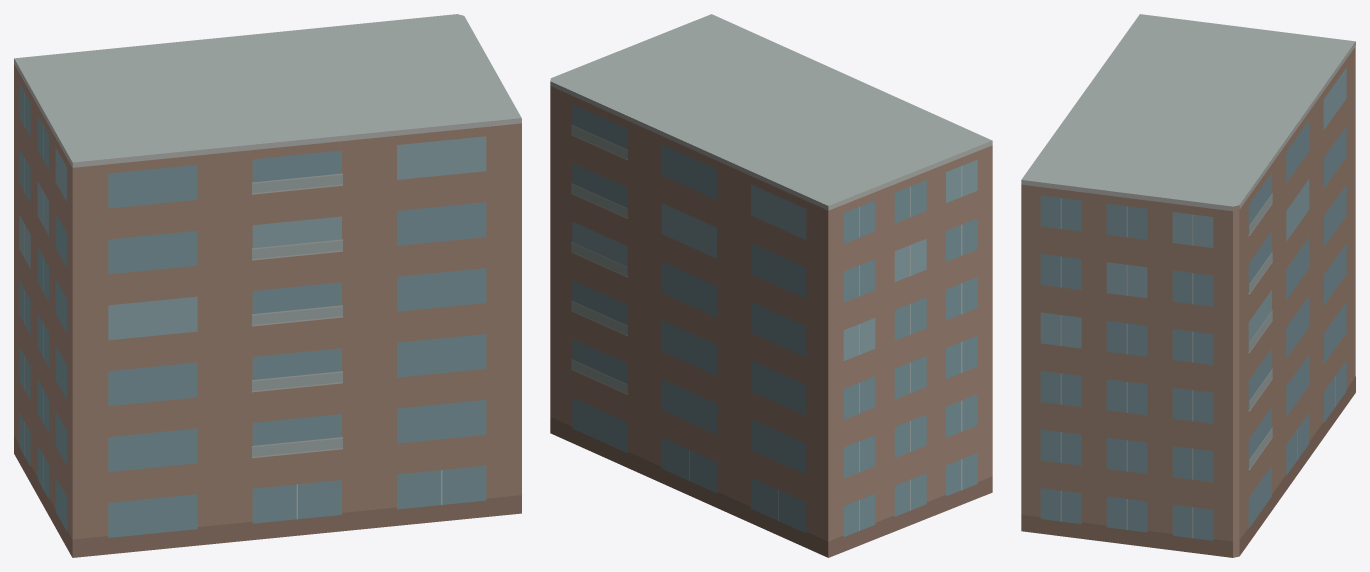
Rendered from survey-upis-32876700.glb.
3 renders of one model, left to right at view 1: azimuth 30°, elevation 25°; view 2: azimuth 150°, elevation 25°; view 3: azimuth 270°, elevation 25°, orthographic. The views are drawn at different scales.
Visible parts, largest first — view 1: survey-upis-32876700.tmp; view 2: survey-upis-32876700.tmp; view 3: survey-upis-32876700.tmp.
Boxes of the visible parts, x1,y1,x2,y2 form: survey-upis-32876700.tmp: (14,14,521,557); survey-upis-32876700.tmp: (550,14,992,557); survey-upis-32876700.tmp: (1021,14,1355,557).
Size of the model in its own units: 21.53 by 18.3 by 15.81.
